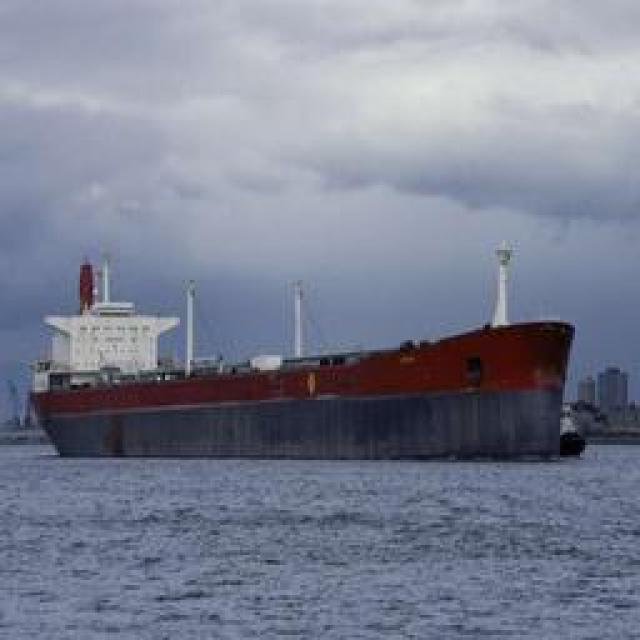CIV_Ship: (34, 250, 574, 458)
